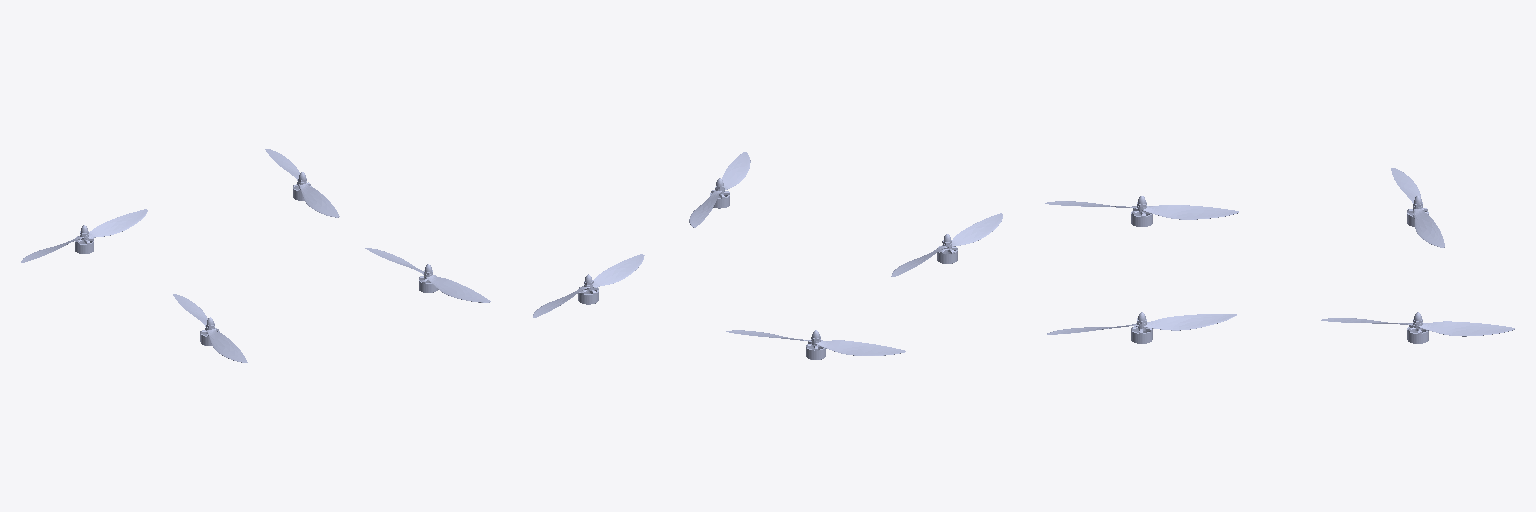
URDF robot description (Final assem.SLDASM):
<robot
  name="Final assem.SLDASM">
  <link
    name="base_link">
    <inertial>
      <origin
        xyz="0.00243214611979047 0.163623874080779 -0.000370721411112952"
        rpy="0 0 0" />
      <mass
        value="0.705203745013749" />
      <inertia
        ixx="0.00750176757942947"
        ixy="-3.65142036300989E-06"
        ixz="5.99684631863895E-08"
        iyy="0.0140183994410422"
        iyz="6.51406103573975E-06"
        izz="0.00750182842561328" />
    </inertial>
    <visual>
      <origin
        xyz="0 0 0"
        rpy="0 0 0" />
      <geometry>
        <mesh
          filename="package://quad_description/meshes/base_link.STL" />
      </geometry>
      <material
        name="">
        <color
          rgba="0.792156862745098 0.819607843137255 0.933333333333333 1" />
      </material>
    </visual>
    <collision>
      <origin
        xyz="0 0 0"
        rpy="0 0 0" />
      <geometry>
        <mesh
          filename="package://quad_description/meshes/base_link.STL" />
      </geometry>
    </collision>
  </link>
  <link
    name="Link1">
    <inertial>
      <origin
        xyz="1.13398094581108E-07 0.018557752875765 -1.87756172165265E-07"
        rpy="0 0 0" />
      <mass
        value="0.0102593008371315" />
      <inertia
        ixx="2.65332934706913E-07"
        ixy="1.07452306067892E-12"
        ixz="1.11371547381558E-15"
        iyy="2.56841556528266E-15"
        iyz="-1.90672774636616E-12"
        izz="2.6533293342829E-07" />
    </inertial>
    <visual>
      <origin
        xyz="0 0 0"
        rpy="0 0 0" />
      <geometry>
        <mesh
          filename="package://quad_description/meshes/Link1.STL" />
      </geometry>
      <material
        name="">
        <color
          rgba="0.792156862745098 0.819607843137255 0.933333333333333 1" />
      </material>
    </visual>
    <collision>
      <origin
        xyz="0 0 0"
        rpy="0 0 0" />
      <geometry>
        <mesh
          filename="package://quad_description/meshes/Link1.STL" />
      </geometry>
    </collision>
  </link>
  <joint
    name="prop1"
    type="continuous">
    <origin
      xyz="-0.176124443135205 -0.178787876216547 0.19801927995734"
      rpy="1.5707963267949 1.52181408478657E-17 0.251171953074523" />
    <parent
      link="base_link" />
    <child
      link="Link1" />
    <axis
      xyz="0 1 0" />
  </joint>
  <link
    name="Link2">
    <inertial>
      <origin
        xyz="1.13649176097796E-07 0.0185576795208406 -1.87693104669595E-07"
        rpy="0 0 0" />
      <mass
        value="0.0102591079734528" />
      <inertia
        ixx="2.6533161571798E-07"
        ixy="1.07186627685145E-12"
        ixz="1.1132730843891E-15"
        iyy="2.56809212585286E-15"
        iyz="-1.9072665256953E-12"
        izz="2.6533161443849E-07" />
    </inertial>
    <visual>
      <origin
        xyz="0 0 0"
        rpy="0 0 0" />
      <geometry>
        <mesh
          filename="package://quad_description/meshes/Link2.STL" />
      </geometry>
      <material
        name="">
        <color
          rgba="0.792156862745098 0.819607843137255 0.933333333333333 1" />
      </material>
    </visual>
    <collision>
      <origin
        xyz="0 0 0"
        rpy="0 0 0" />
      <geometry>
        <mesh
          filename="package://quad_description/meshes/Link2.STL" />
      </geometry>
    </collision>
  </link>
  <joint
    name="prop2"
    type="continuous">
    <origin
      xyz="-0.176054559418305 0.178895017978848 0.19801927995734"
      rpy="1.5707963267949 4.98335905490269E-17 2.19080886047877" />
    <parent
      link="base_link" />
    <child
      link="Link2" />
    <axis
      xyz="0 1 0" />
  </joint>
  <link
    name="Link3">
    <inertial>
      <origin
        xyz="1.13260943318538E-07 0.0185577528712945 -1.87344296381786E-07"
        rpy="0 0 0" />
      <mass
        value="0.0102593008234245" />
      <inertia
        ixx="2.65332934630216E-07"
        ixy="1.07593860721963E-12"
        ixz="1.11449064792866E-15"
        iyy="2.57045462503078E-15"
        iyz="-1.91097874359284E-12"
        izz="2.65332933350206E-07" />
    </inertial>
    <visual>
      <origin
        xyz="0 0 0"
        rpy="0 0 0" />
      <geometry>
        <mesh
          filename="package://quad_description/meshes/Link3.STL" />
      </geometry>
      <material
        name="">
        <color
          rgba="0.792156862745098 0.819607843137255 0.933333333333333 1" />
      </material>
    </visual>
    <collision>
      <origin
        xyz="0 0 0"
        rpy="0 0 0" />
      <geometry>
        <mesh
          filename="package://quad_description/meshes/Link3.STL" />
      </geometry>
    </collision>
  </link>
  <joint
    name="prop3"
    type="continuous">
    <origin
      xyz="0.18162833477709 0.178825134261949 0.19801927995734"
      rpy="1.5707963267949 1.52181408478657E-17 0.251171953074523" />
    <parent
      link="base_link" />
    <child
      link="Link3" />
    <axis
      xyz="0 1 0" />
  </joint>
  <link
    name="Link4">
    <inertial>
      <origin
        xyz="1.13598980958085E-07 0.0185576795169345 -1.87546819852003E-07"
        rpy="0 0 0" />
      <mass
        value="0.0102591079590175" />
      <inertia
        ixx="2.65331615652612E-07"
        ixy="1.07238432719736E-12"
        ixz="1.11355125530294E-15"
        iyy="2.56881961145873E-15"
        iyz="-1.90877631550849E-12"
        izz="2.65331614372633E-07" />
    </inertial>
    <visual>
      <origin
        xyz="0 0 0"
        rpy="0 0 0" />
      <geometry>
        <mesh
          filename="package://quad_description/meshes/Link4.STL" />
      </geometry>
      <material
        name="">
        <color
          rgba="0.792156862745098 0.819607843137255 0.933333333333333 1" />
      </material>
    </visual>
    <collision>
      <origin
        xyz="0 0 0"
        rpy="0 0 0" />
      <geometry>
        <mesh
          filename="package://quad_description/meshes/Link4.STL" />
      </geometry>
    </collision>
  </link>
  <joint
    name="prop4"
    type="continuous">
    <origin
      xyz="0.18155845106019 -0.178857759933446 0.19801927995734"
      rpy="1.5707963267949 -3.46232409087429E-17 -2.5406028590227" />
    <parent
      link="base_link" />
    <child
      link="Link4" />
    <axis
      xyz="0 1 0" />
  </joint>
</robot>

--- Render facts (derived) ---
Views: 3 orthographic renders of the robot side by side, from view 1: azimuth 30°, elevation 25°; view 2: azimuth 150°, elevation 25°; view 3: azimuth 270°, elevation 25°.
Robot: Final assem.SLDASM — 5 links, 4 joints (4 continuous); root link base_link; default pose: every joint at zero.
Visible links, largest first — view 1: Link2, Link4, Link1, Link3; view 2: Link2, Link1, Link3, Link4; view 3: Link1, Link4, Link3, Link2.
Boxes of the visible links, bbox=[...] form: Link2: bbox=[21, 209, 147, 262]; Link4: bbox=[365, 248, 490, 302]; Link1: bbox=[173, 294, 247, 362]; Link3: bbox=[265, 149, 339, 217]; Link2: bbox=[726, 330, 905, 359]; Link1: bbox=[891, 213, 1002, 276]; Link3: bbox=[533, 254, 644, 317]; Link4: bbox=[689, 152, 750, 227]; Link1: bbox=[1045, 196, 1238, 226]; Link4: bbox=[1047, 312, 1236, 343]; Link3: bbox=[1321, 312, 1514, 343]; Link2: bbox=[1391, 168, 1444, 247].
Size in the robot's own frame: 0.5124 by 0.6102 by 0.0389 metres.
Meshes: 5 distinct files referenced, 4 mesh visuals loaded (4 binary STL); not drawn: 1 (reference not matched to a file when rendering).
